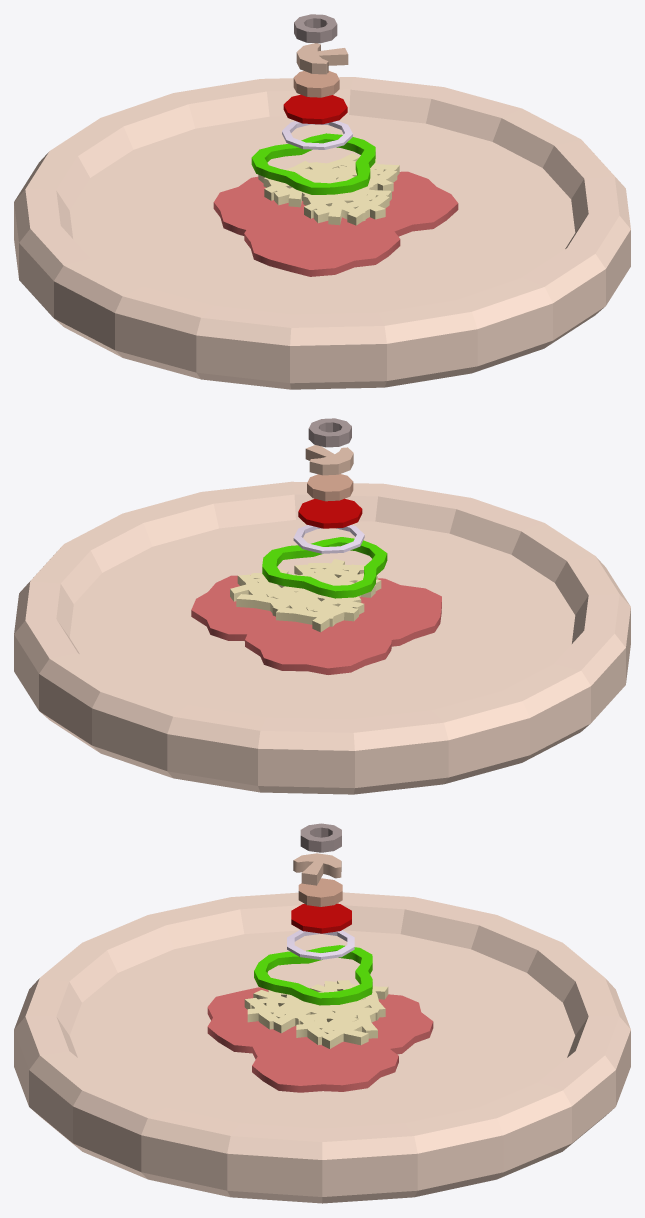
Rendered from Pizzaaa.fbx.
The picture shows the model from 3 angles, top to bottom: view 1: azimuth 30°, elevation 25°; view 2: azimuth 150°, elevation 25°; view 3: azimuth 270°, elevation 25°; orthographic projection.
Visible parts, largest first — view 1: Dough, Souce, Souce2, pPipe1, Souce1, Cheese_Cheese, Cheese_Cheese1, Pepproni, Cheese_Cheese2, Mushroom, Olive, Sausage (+1 smaller); view 2: Dough, Souce1, Souce, Souce2, pPipe1, Cheese_Cheese2, Cheese_Cheese1, Pepproni, Cheese_Cheese, Mushroom, Olive, Sausage (+1 smaller); view 3: Dough, Souce2, pPipe1, Souce, Cheese_Cheese1, Souce1, Cheese_Cheese, Pepproni, Cheese_Cheese2, Mushroom, Olive, Sausage (+1 smaller).
Boxes of the visible parts, x1,y1,x2,y2 form: Dough: (14, 77, 630, 389); Souce: (244, 205, 400, 276); Souce2: (324, 171, 458, 236); pPipe1: (251, 133, 375, 194); Souce1: (213, 176, 350, 238); Cheese_Cheese: (302, 179, 391, 225); Cheese_Cheese1: (307, 153, 399, 191); Pepproni: (283, 94, 347, 124); Cheese_Cheese2: (258, 161, 351, 207); Mushroom: (296, 43, 348, 74); Olive: (294, 14, 337, 43); Sausage: (293, 71, 339, 97); Dough: (14, 481, 630, 794); Souce1: (245, 613, 392, 674); Souce: (336, 578, 441, 646); Souce2: (191, 575, 305, 641); pPipe1: (262, 537, 387, 598); Cheese_Cheese2: (270, 587, 364, 632); Cheese_Cheese1: (230, 569, 318, 616); Pepproni: (298, 498, 362, 528); Cheese_Cheese: (294, 559, 381, 600); Mushroom: (305, 445, 353, 475); Olive: (308, 418, 351, 447); Sausage: (307, 474, 353, 501); Dough: (14, 892, 630, 1203); Souce2: (252, 1030, 398, 1092); pPipe1: (254, 945, 372, 1005); Souce: (207, 987, 307, 1053); Cheese_Cheese1: (293, 1004, 379, 1048); Souce1: (287, 994, 433, 1054); Cheese_Cheese: (244, 990, 328, 1033); Pepproni: (291, 903, 351, 933); Cheese_Cheese2: (304, 980, 388, 1022); Mushroom: (293, 853, 341, 885); Olive: (300, 823, 341, 852); Sausage: (298, 878, 342, 906).
Bounding box in the file's own units: 2 × 0.865 × 2.
